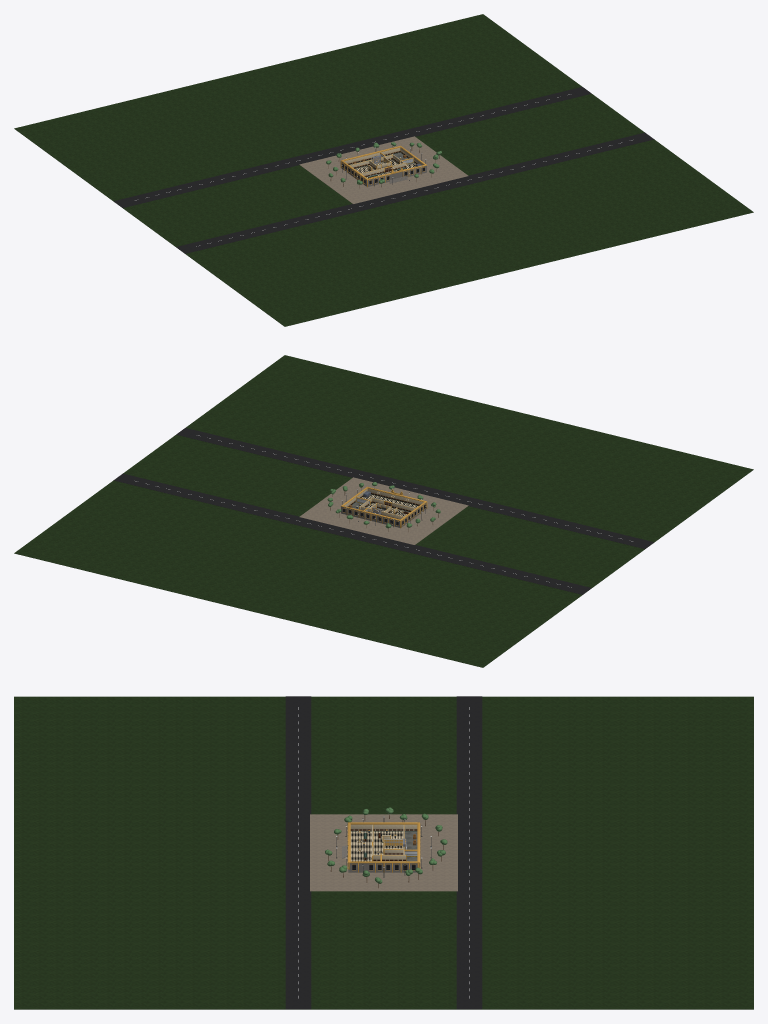
The model's file is hd-world-1.glb.
3 renders of one model, top to bottom at view 1: azimuth 30°, elevation 25°; view 2: azimuth 150°, elevation 25°; view 3: azimuth 270°, elevation 25°, orthographic. The views are drawn at different scales.
Visible parts, largest first — view 1: Static; view 2: Static, Wall_outer_1; view 3: Static, Floor, Wall_outer_2, Wall_outer_3.
Part boxes in pixels (bbox=[...]): Static: bbox=[14, 14, 753, 326]; Static: bbox=[14, 355, 753, 667]; Wall_outer_1: bbox=[340, 505, 401, 528]; Static: bbox=[14, 696, 753, 1009]; Floor: bbox=[350, 831, 417, 861]; Wall_outer_2: bbox=[349, 861, 418, 872]; Wall_outer_3: bbox=[350, 822, 417, 831].
Size of the model in its own units: 260 by 5.97 by 260.
Materials: 25 (16 with a texture image).
